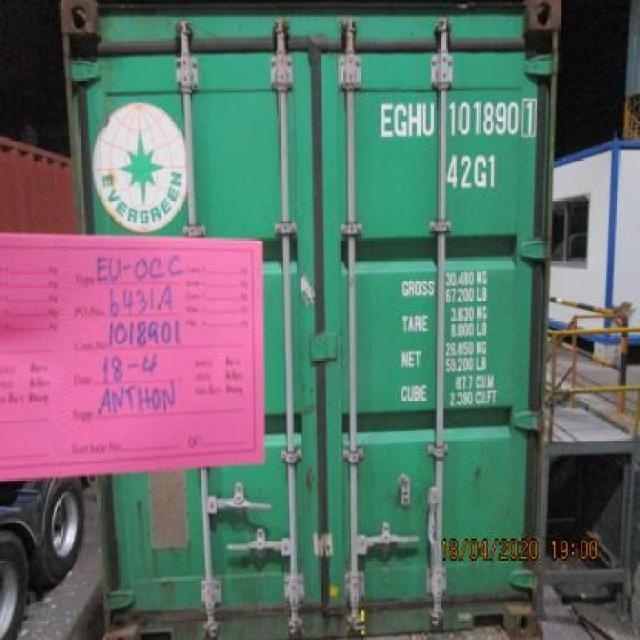ISO: (446, 154, 498, 187)
container_number: (377, 102, 540, 138)
